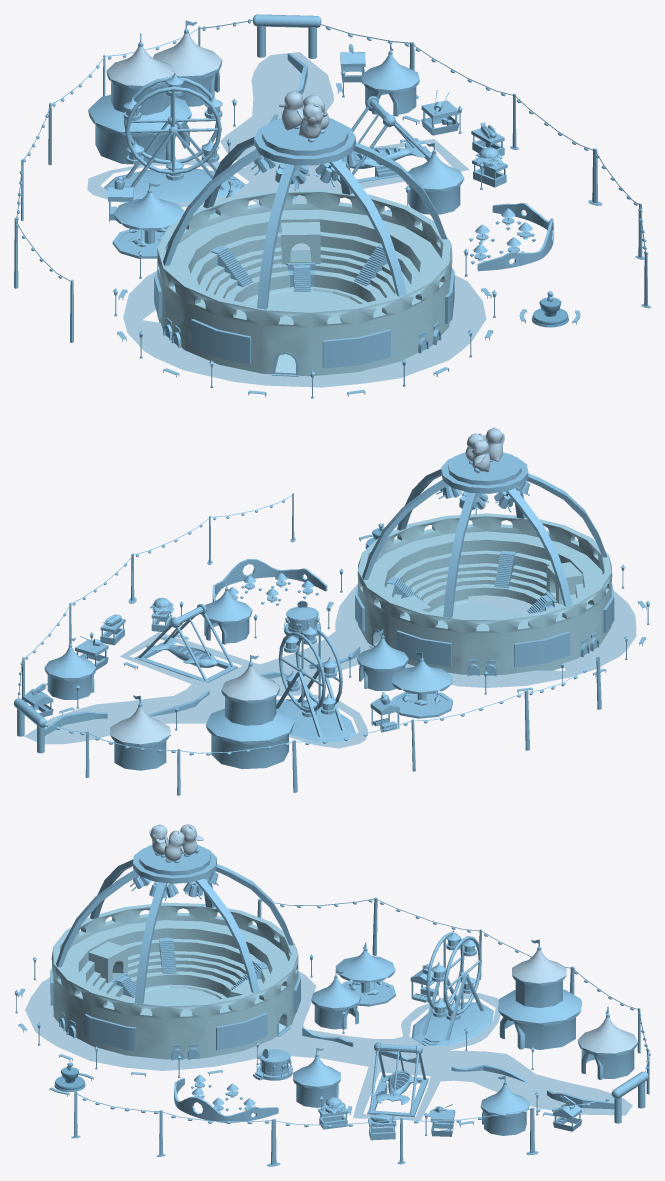
Rendered from Neighborhood_JamboreeSquare_Locked_03.fbx.
3 renders of one model, top to bottom at view 1: azimuth 30°, elevation 25°; view 2: azimuth 150°, elevation 25°; view 3: azimuth 270°, elevation 25°, orthographic. The views are drawn at different scales.
Parts seen in each view (by area): view 1: Neighobrhood_JamboreeSquare_04_pasted__JamboreeNew_pasted__N; view 2: Neighobrhood_JamboreeSquare_04_pasted__JamboreeNew_pasted__N; view 3: Neighobrhood_JamboreeSquare_04_pasted__JamboreeNew_pasted__N.
Part boxes in pixels (left/top/right/bottom): Neighobrhood_JamboreeSquare_04_pasted__JamboreeNew_pasted__N: left=14, top=14, right=650, bottom=398; Neighobrhood_JamboreeSquare_04_pasted__JamboreeNew_pasted__N: left=14, top=427, right=650, bottom=795; Neighobrhood_JamboreeSquare_04_pasted__JamboreeNew_pasted__N: left=14, top=824, right=650, bottom=1166.
Bounding box in the file's own units: 3843 × 1614 × 4707.
